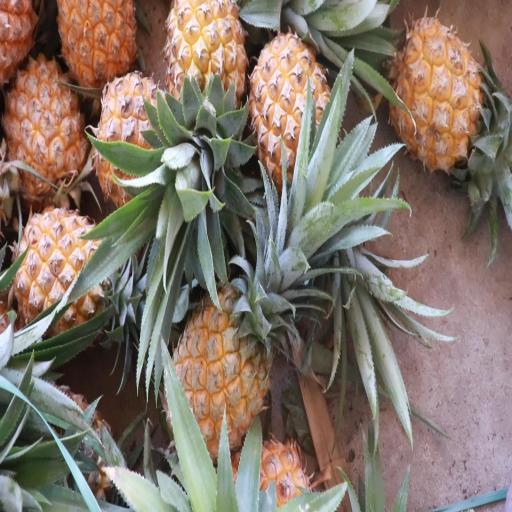Pineapple - v8 v1: (154, 264, 288, 458), (244, 25, 346, 212), (384, 2, 488, 184), (10, 192, 126, 350), (158, 0, 251, 197), (93, 65, 196, 235), (0, 50, 94, 224), (55, 0, 145, 108)
